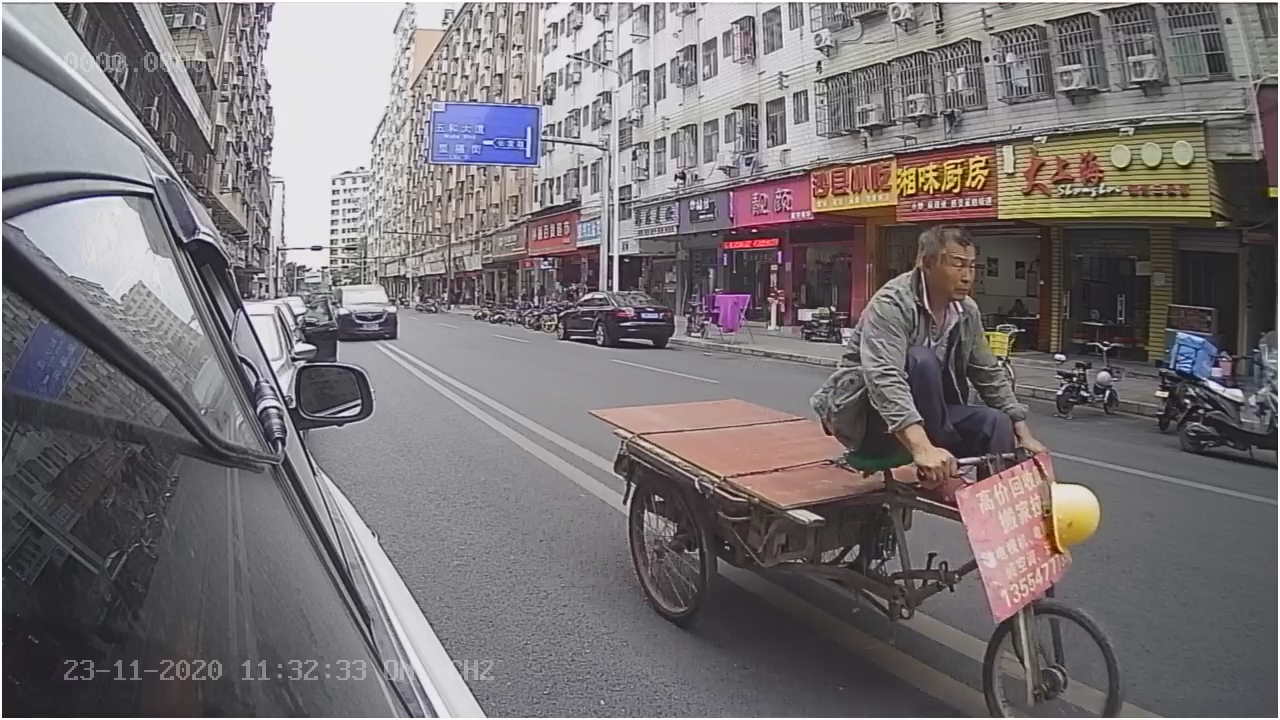person: (824, 196, 1045, 479)
